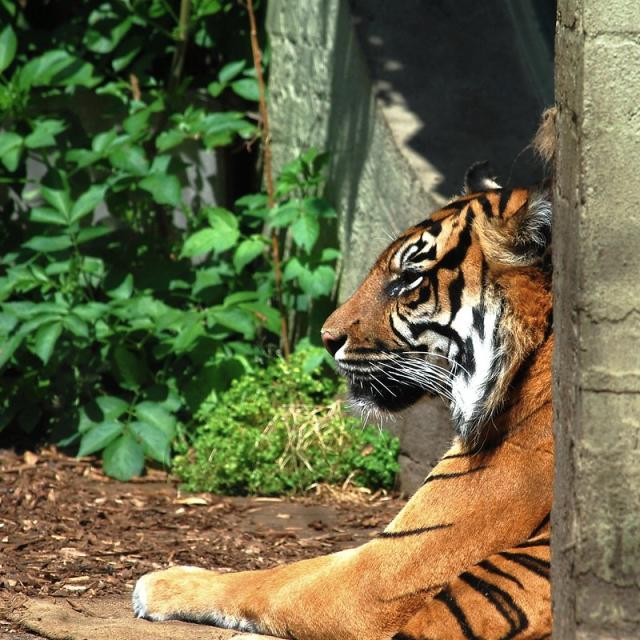Tiger: (132, 157, 555, 636)
